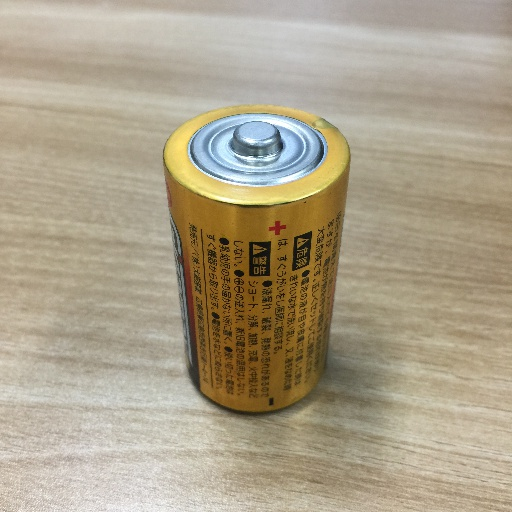Battery_0: (147, 85, 368, 426)
